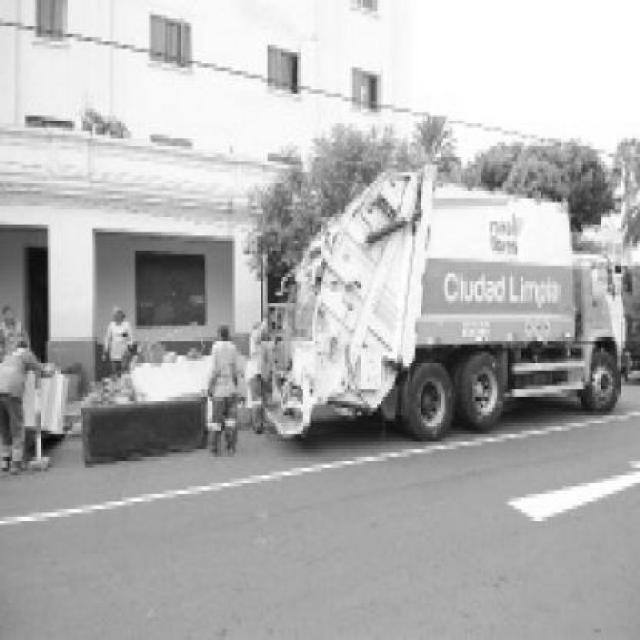Garbage Truck: (268, 165, 625, 442)
